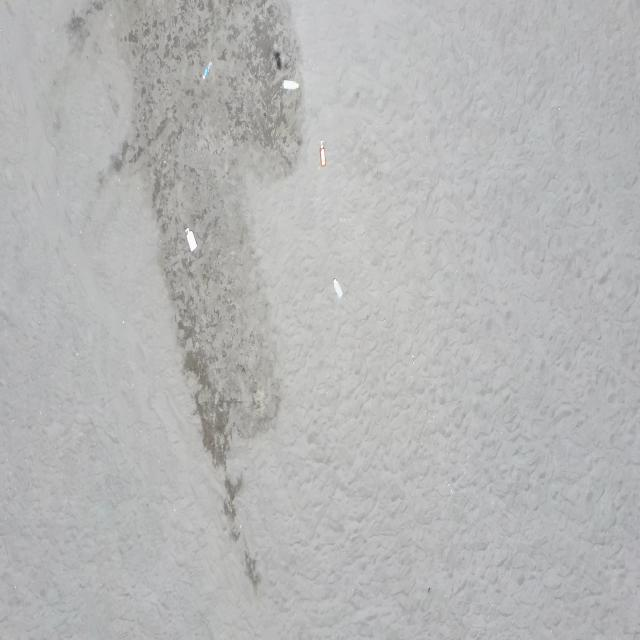Garbage: (184, 227, 196, 251), (332, 278, 342, 298), (201, 60, 211, 79), (281, 80, 298, 88), (273, 51, 280, 68), (320, 140, 324, 166)
